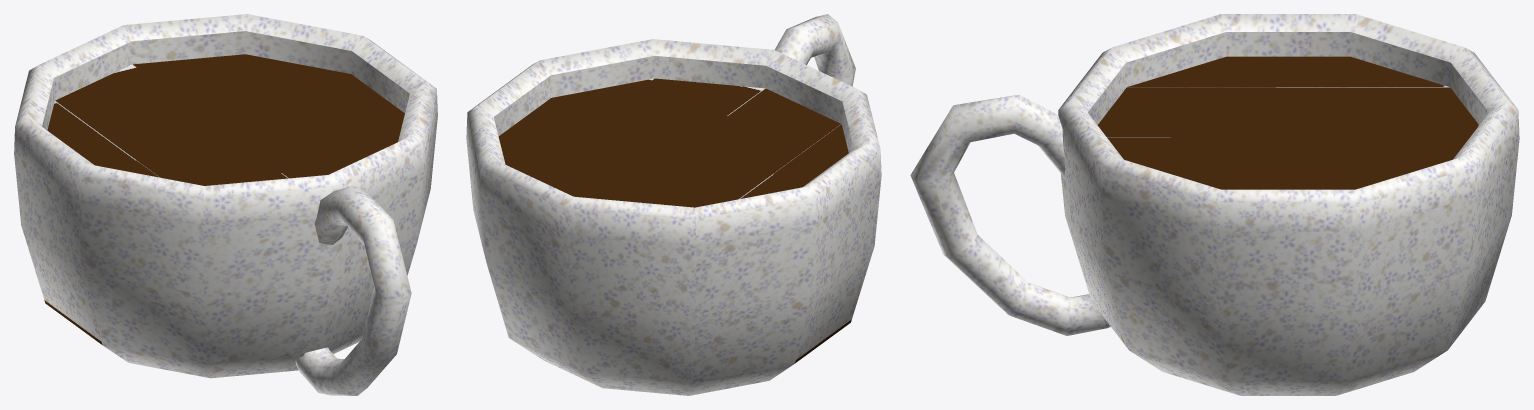
Rendered from CUPcoffeeNEW.fbx.
3 renders of one model, left to right at view 1: azimuth 30°, elevation 25°; view 2: azimuth 150°, elevation 25°; view 3: azimuth 270°, elevation 25°, orthographic. The views are drawn at different scales.
Parts seen in each view (by area): view 1: Line001; view 2: Line001; view 3: Line001.
Boxes of the visible parts, x1,y1,x2,y2 form: Line001: (14, 14, 437, 395); Line001: (466, 14, 881, 395); Line001: (910, 14, 1519, 395).
Bounding box in the file's own units: 2.81 × 1.75 × 3.9.
